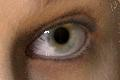eye: (48, 23, 75, 53)
